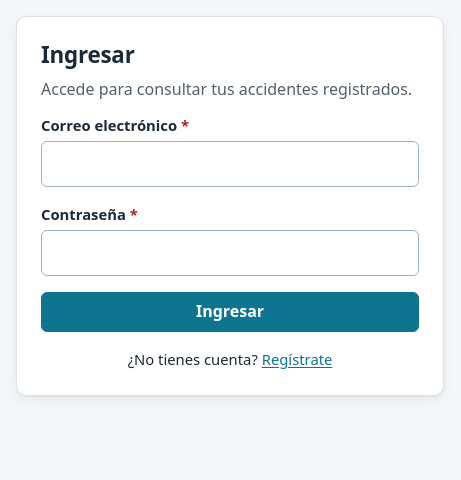
Test: LoginPage › 429 muestra mensaje de demasiados intentos
The width and height of the screenshot is (461, 480).
Type "a@b.co" into the field labelled "Correo electrónico" at x=230, y=164, box [41,141,419,187]
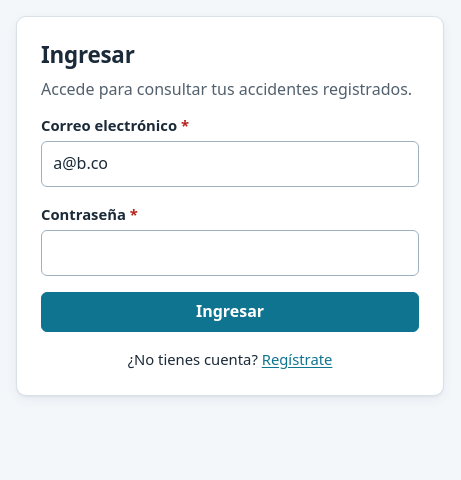
Type "secreto123" into the password field labelled "Contraseña" at x=230, y=253, box [41,230,419,276]
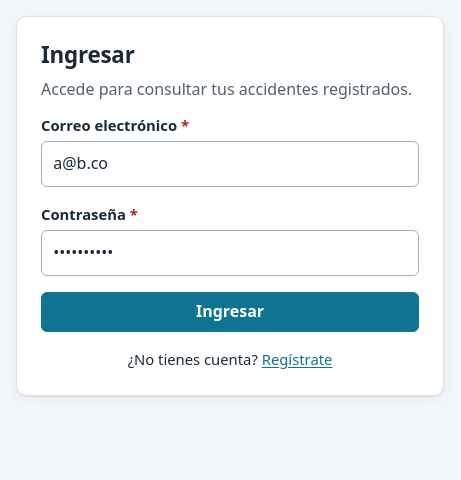
Click the button "Ingresar" at x=230, y=312, box [41,292,419,332]
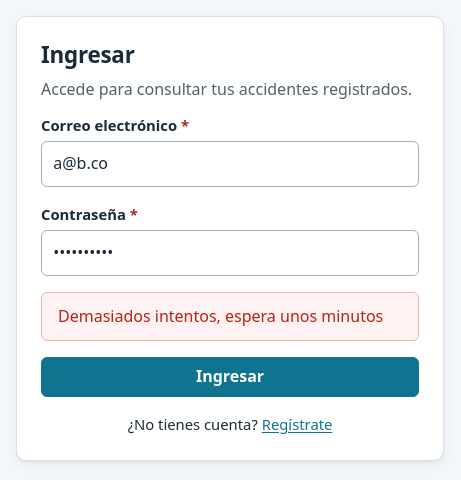
Check: the message reads "Demasiados intentos, espera unos minutos", box [58,305,383,327]
